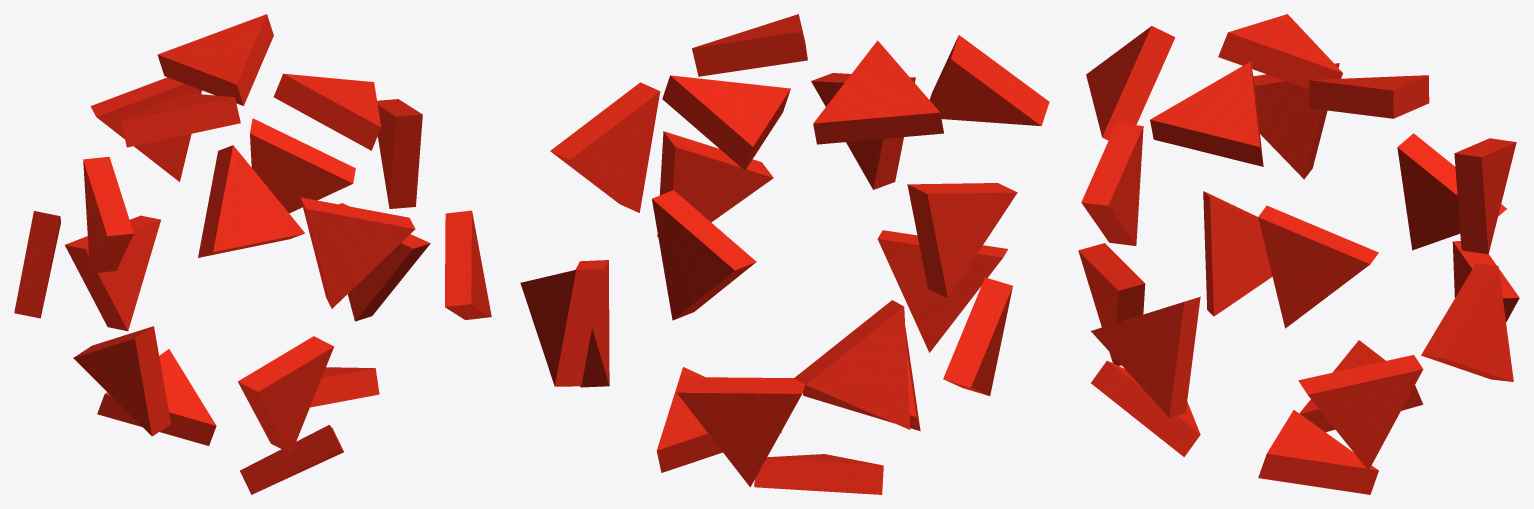
Rendered from qini.obj.
The picture shows the model from 3 angles, left to right: view 1: azimuth 30°, elevation 25°; view 2: azimuth 150°, elevation 25°; view 3: azimuth 270°, elevation 25°; orthographic projection. The views are drawn at different scales.
Parts seen in each view (by area): view 1: Cube.002; view 2: Cube.002; view 3: Cube.002.
Boxes of the visible parts, box(x1,y1,x2,y2) form: Cube.002: box(14, 14, 491, 494); Cube.002: box(520, 14, 1049, 494); Cube.002: box(1078, 14, 1519, 494).
Size of the model in its own units: 1.23 by 1.24 by 1.24.
